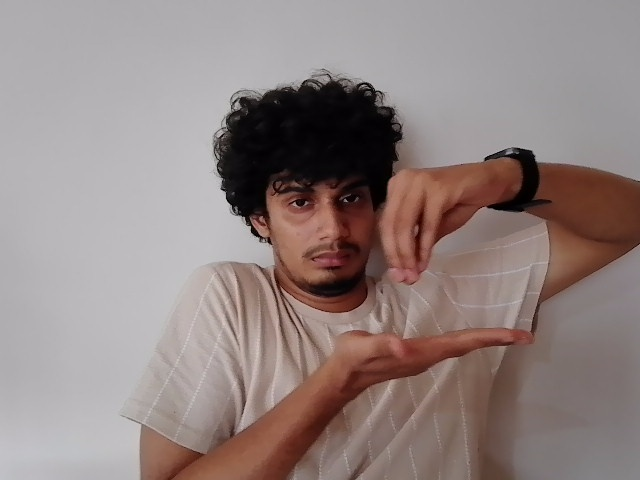learn: (344, 166, 536, 377)
